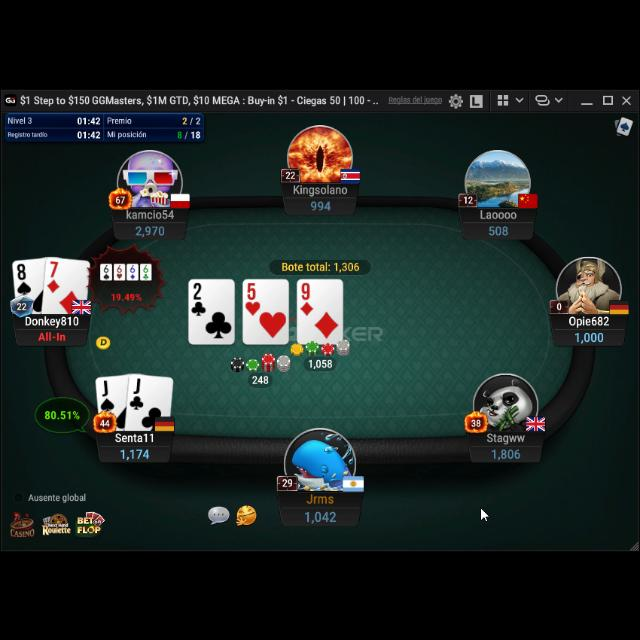2c: (190, 280, 208, 316)
5h: (244, 280, 262, 314)
7d: (44, 256, 61, 292)
8s: (15, 259, 33, 295)
9d: (299, 278, 315, 316)
Jc: (128, 373, 146, 409)
Js: (100, 376, 116, 410)
all_in_symbol: (38, 327, 66, 339)
bet_text: (307, 355, 333, 367), (251, 371, 271, 383)
dealer: (95, 330, 112, 348)
pot_text: (280, 260, 360, 270)
stack_text: (302, 504, 338, 522), (491, 444, 522, 458), (575, 326, 605, 340), (120, 445, 150, 459), (134, 220, 164, 234), (310, 195, 332, 209), (488, 220, 508, 234)
